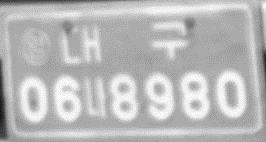0: (215, 69, 249, 121), (16, 75, 49, 125)
6: (53, 75, 83, 124)
8: (107, 73, 141, 124), (178, 71, 211, 121)
9: (144, 71, 175, 122)
나: (83, 74, 108, 121)
대구_D: (60, 20, 189, 66)
영: (19, 26, 55, 69)
